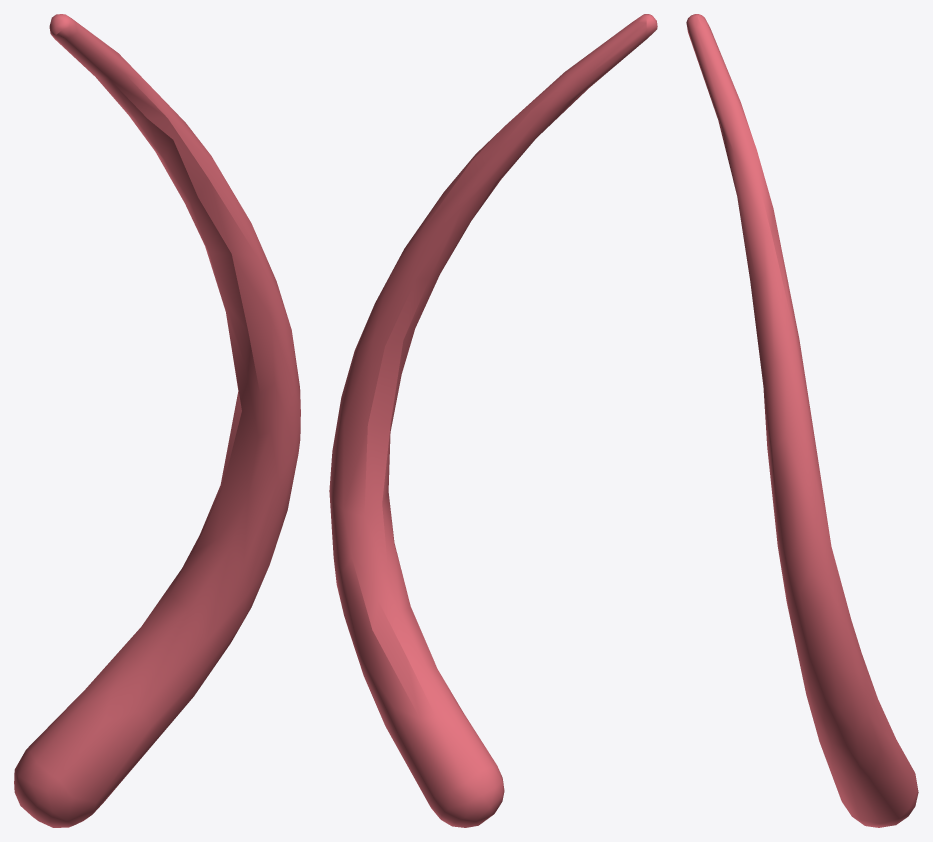
Rendered from fma13281_fj5985.glb.
3 renders of one model, left to right at view 1: azimuth 30°, elevation 25°; view 2: azimuth 150°, elevation 25°; view 3: azimuth 270°, elevation 25°, orthographic. The views are drawn at different scales.
Visible parts, largest first — view 1: FMA13281_FJ5985; view 2: FMA13281_FJ5985; view 3: FMA13281_FJ5985.
Part boxes in pixels (left/top/right/bottom): FMA13281_FJ5985: left=14, top=14, right=300, bottom=827; FMA13281_FJ5985: left=329, top=14, right=657, bottom=827; FMA13281_FJ5985: left=686, top=14, right=918, bottom=827.
Bounding box in the file's own units: 0.0262 × 0.073 × 0.0201.
